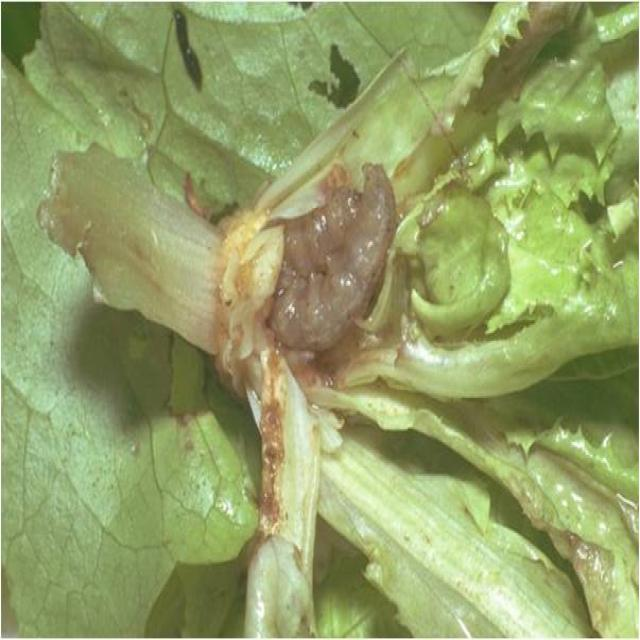Cutworm: (262, 168, 394, 374)
